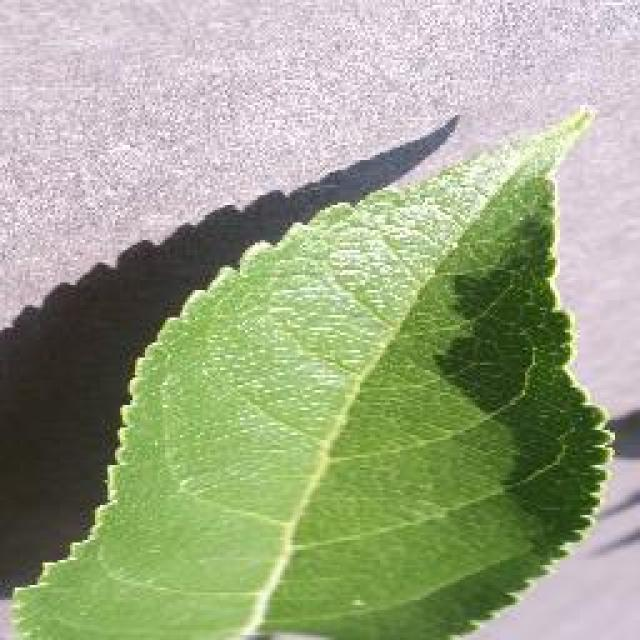apple healthy: (5, 102, 615, 638)
